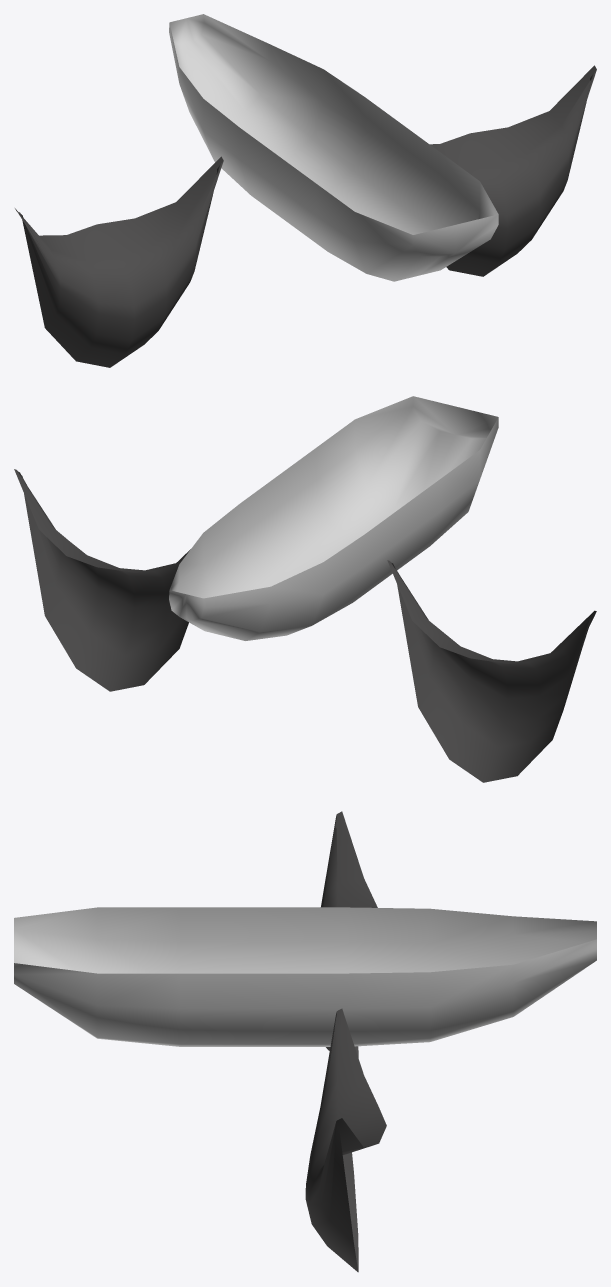
Rendered from fisher.fbx.
The picture shows the model from 3 angles, top to bottom: view 1: azimuth 30°, elevation 25°; view 2: azimuth 150°, elevation 25°; view 3: azimuth 270°, elevation 25°; orthographic projection. The views are drawn at different scales.
Visible parts, largest first — view 1: fishing boat; view 2: fishing boat; view 3: fishing boat.
Part boxes in pixels (x1,y1,x2,y2): fishing boat: [15, 14, 596, 367]; fishing boat: [14, 396, 596, 782]; fishing boat: [14, 811, 596, 1272].
Bounding box in the file's own units: 928 × 342 × 746.
Materials: 2 (1 with a texture image).
